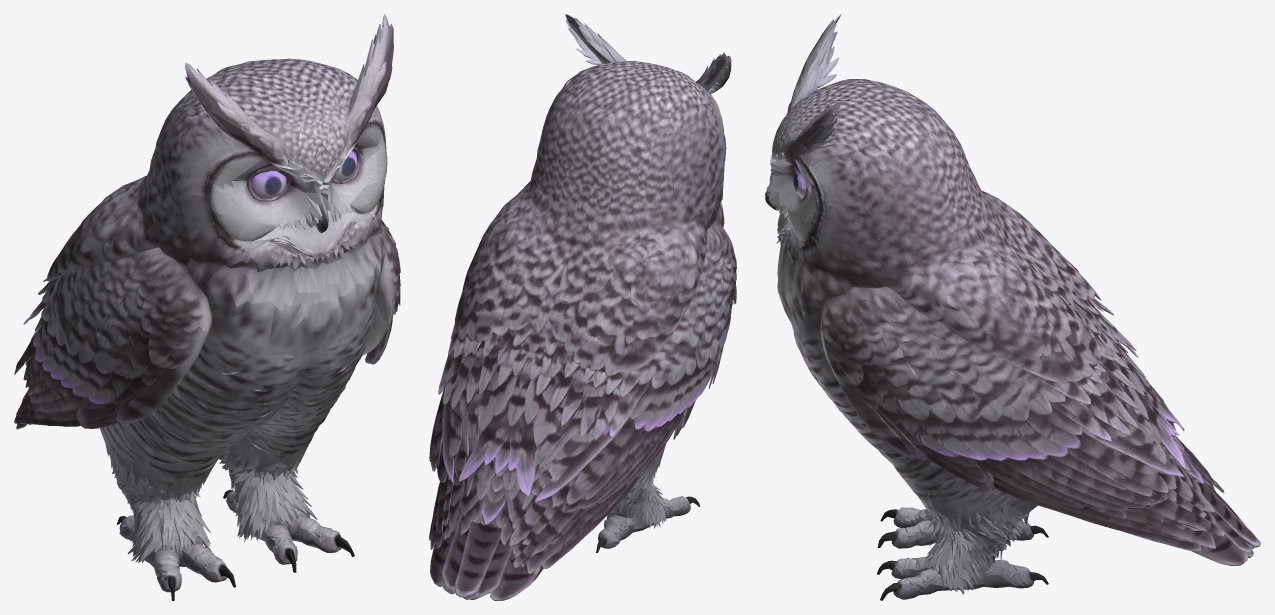
Rendered from duskhush_r9_meshy.glb.
The picture shows the model from 3 angles, left to right: view 1: azimuth 30°, elevation 25°; view 2: azimuth 150°, elevation 25°; view 3: azimuth 270°, elevation 25°; orthographic projection. The views are drawn at different scales.
Parts seen in each view (by area): view 1: Mesh_0; view 2: Mesh_0; view 3: Mesh_0.
Part boxes in pixels (bbox=[...]): Mesh_0: bbox=[14, 14, 400, 600]; Mesh_0: bbox=[429, 14, 736, 600]; Mesh_0: bbox=[765, 14, 1260, 600].
Size of the model in its own units: 1.04 by 1.9 by 1.7.
1 material, 1 textured.
